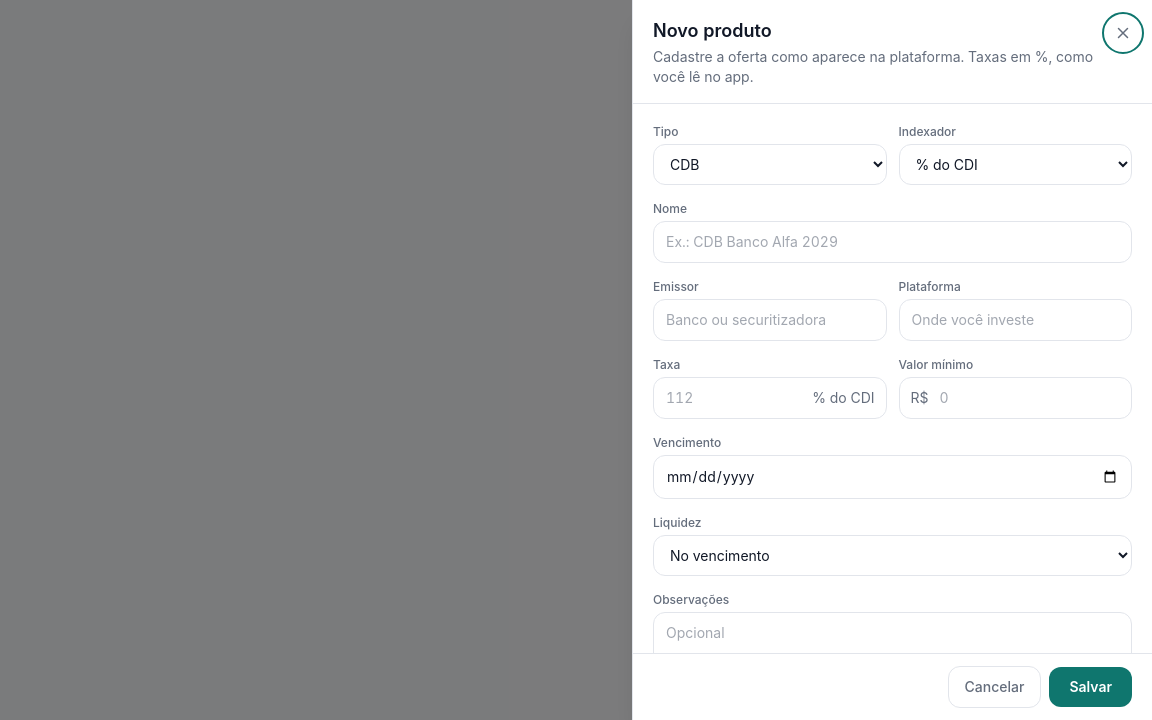
Scenario: FUNDO_RF mostra Taxa de administração e esconde Vencimento e Liquidez
The image size is (1152, 720).
Check: the date field labelled "Vencimento" is shown, box [653, 454, 1132, 498]
Check: the field labelled "Taxa de administração" is not shown
Select "Fundo RF" in the dropdown labelled "Tipo" at coordinates (770, 164), box [653, 144, 886, 184]
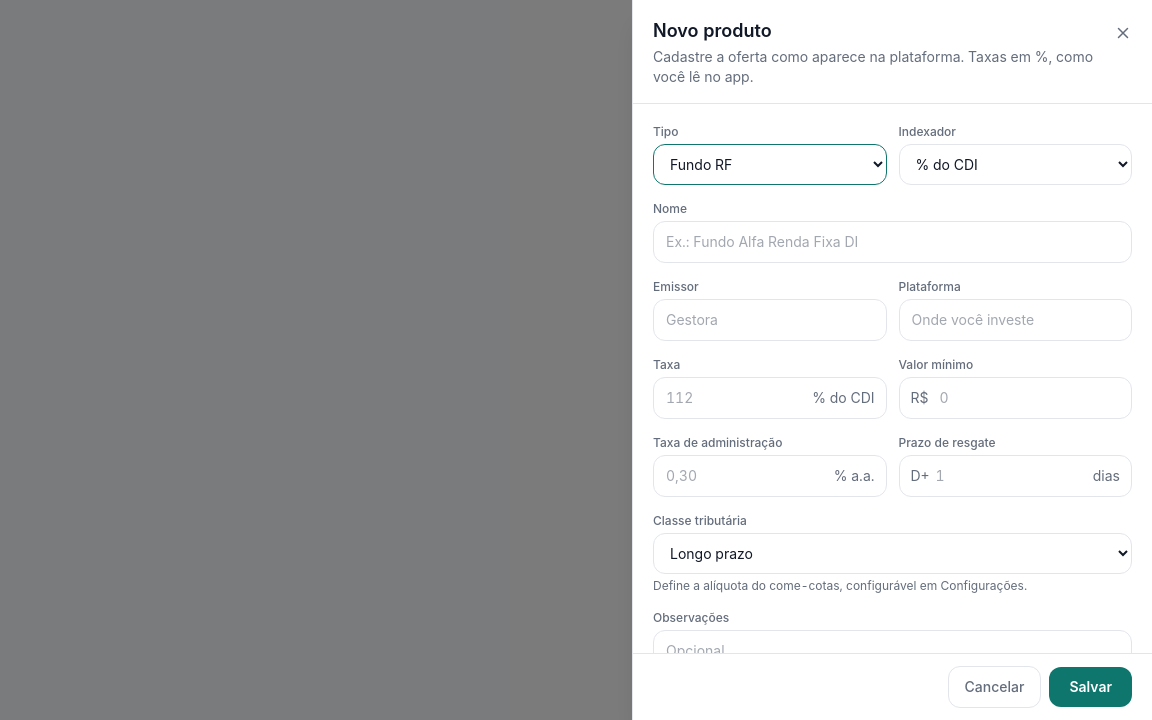
Check: the field labelled "Taxa de administração" is shown, box [653, 454, 886, 496]
Check: the field labelled "Prazo de resgate" is shown, box [898, 454, 1132, 496]
Check: the dropdown labelled "Classe tributária" is shown, box [653, 532, 1132, 574]
